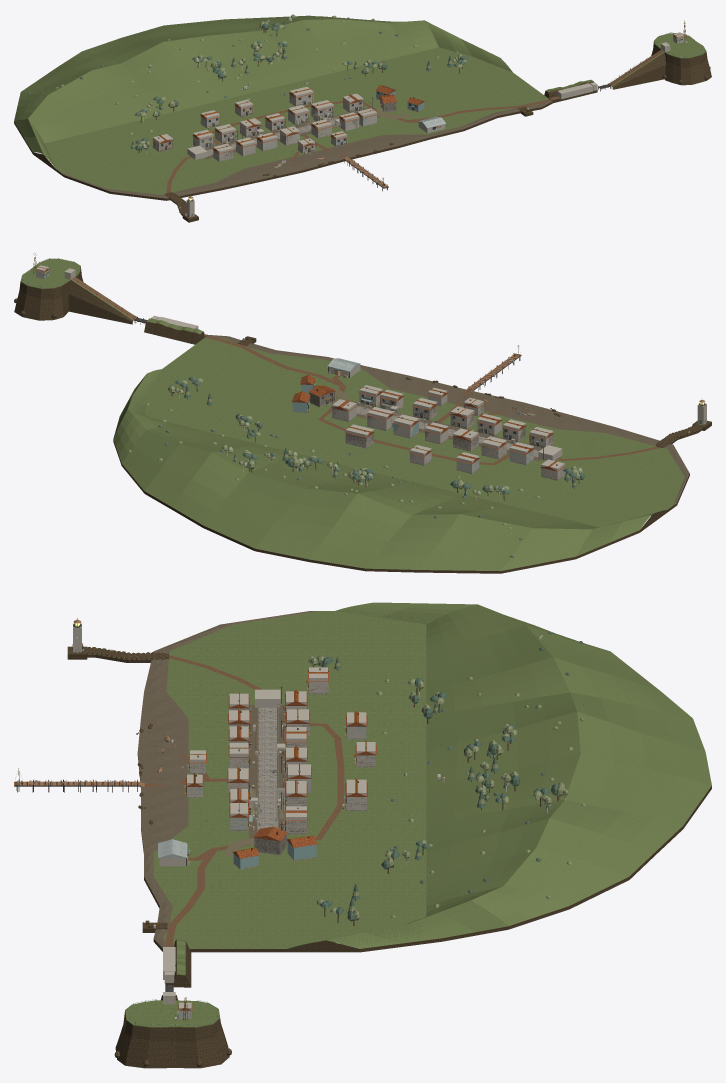
File: shop_lane.glb
3 views of the same model, one above another, from view 1: azimuth 30°, elevation 25°; view 2: azimuth 150°, elevation 25°; view 3: azimuth 270°, elevation 25° (orthographic). The views are drawn at different scales.
Parts seen in each view (by area): view 1: Northern fields, Tide line, Lanes and shoreline, Northern windbreaks, Station / headland, Storm / ascent, Old street paving, Dunes and undergrowth, Storm / spray ledge, Fishermens pier, col_school; view 2: Northern fields, Tide line, Lanes and shoreline, Station / headland, Northern windbreaks, Storm / ascent, Storm / spray ledge, Old street paving, Dunes and undergrowth, Lighthouse / masonry; view 3: Northern fields, Tide line, Station / headland, Lanes and shoreline, Northern windbreaks, Old street paving, Lighthouse / masonry, Fishermens pier, Dunes and undergrowth, Storm / spray ledge, Bend sail loft masonry.
Boxes of the visible parts, x1,y1,x2,y2 form: Northern fields: [14, 15, 548, 194]; Tide line: [62, 100, 552, 198]; Lanes and shoreline: [14, 99, 552, 200]; Northern windbreaks: [131, 14, 467, 153]; Station / headland: [651, 33, 711, 85]; Storm / ascent: [609, 49, 666, 89]; Old street paving: [204, 107, 380, 159]; Dunes and undergrowth: [28, 15, 507, 182]; Storm / spray ledge: [544, 79, 597, 103]; Fishermens pier: [342, 156, 388, 191]; col_school: [289, 86, 313, 105]; Northern fields: [113, 337, 684, 571]; Tide line: [207, 335, 689, 505]; Lanes and shoreline: [113, 336, 689, 573]; Station / headland: [14, 258, 83, 320]; Northern windbreaks: [168, 377, 584, 500]; Storm / ascent: [68, 277, 137, 324]; Storm / spray ledge: [144, 317, 207, 344]; Old street paving: [350, 401, 542, 461]; Dunes and undergrowth: [127, 371, 654, 557]; Lighthouse / masonry: [656, 420, 711, 447]; Northern fields: [153, 602, 711, 948]; Tide line: [136, 611, 317, 948]; Station / headland: [114, 1000, 231, 1068]; Lanes and shoreline: [137, 655, 711, 952]; Northern windbreaks: [308, 656, 568, 925]; Old street paving: [248, 705, 286, 838]; Lighthouse / masonry: [67, 646, 169, 662]; Fishermens pier: [14, 768, 144, 792]; Dunes and undergrowth: [198, 631, 585, 932]; Storm / spray ledge: [165, 939, 191, 987]; Bend sail loft masonry: [253, 826, 287, 855].
Size of what is drawn, in the model's own units: 339 by 24.6 by 220.
Materials: 31 (27 with a texture image).
